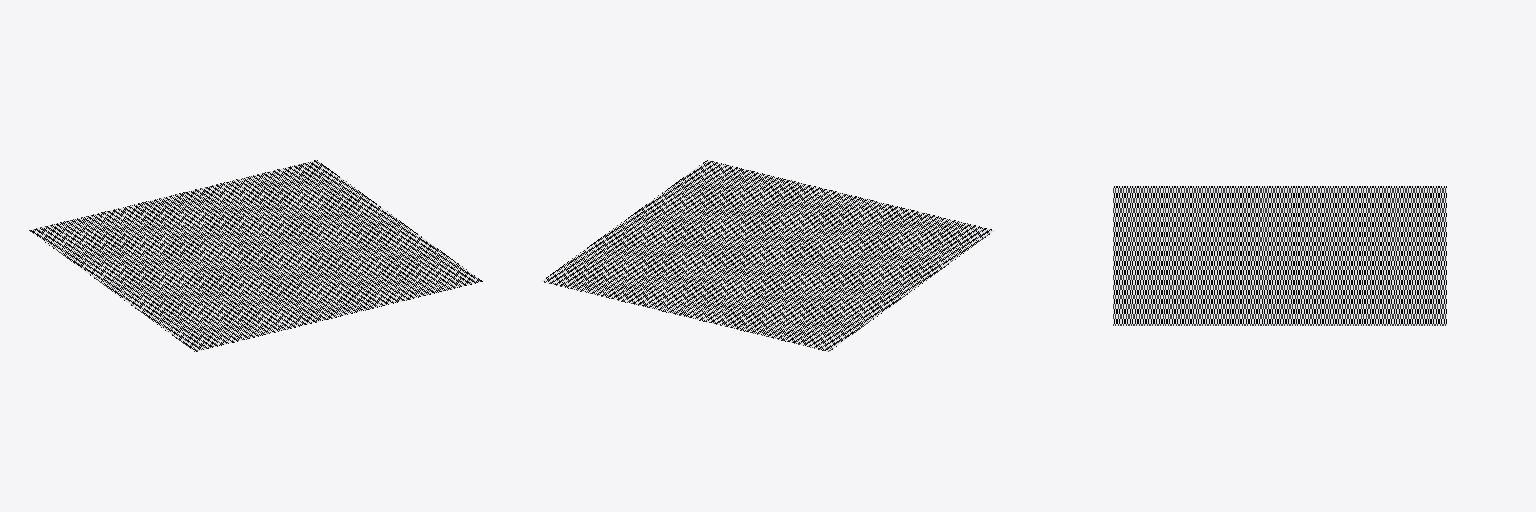
3 renders of one model, left to right at view 1: azimuth 30°, elevation 25°; view 2: azimuth 150°, elevation 25°; view 3: azimuth 270°, elevation 25°, orthographic.
Visible parts, largest first — view 1: Plane; view 2: Plane; view 3: Plane.
Part boxes in pixels (bbox=[...]): Plane: bbox=[29, 160, 482, 351]; Plane: bbox=[541, 160, 994, 351]; Plane: bbox=[1113, 186, 1446, 325].
Bounding box in the file's own units: 900 × 0 × 900.
1 materials, 1 textured.